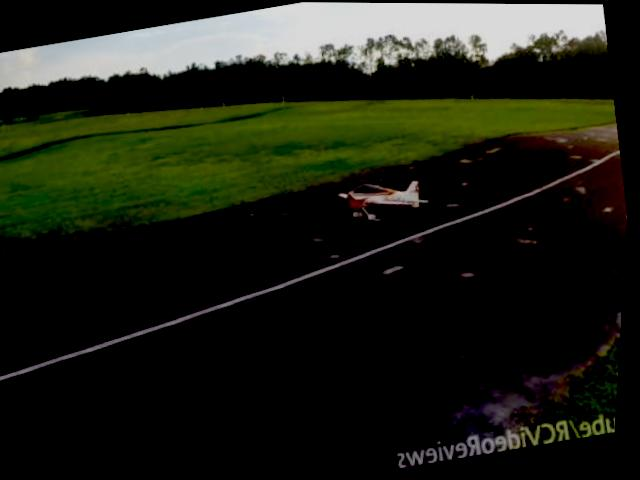uav: (329, 160, 437, 233)
